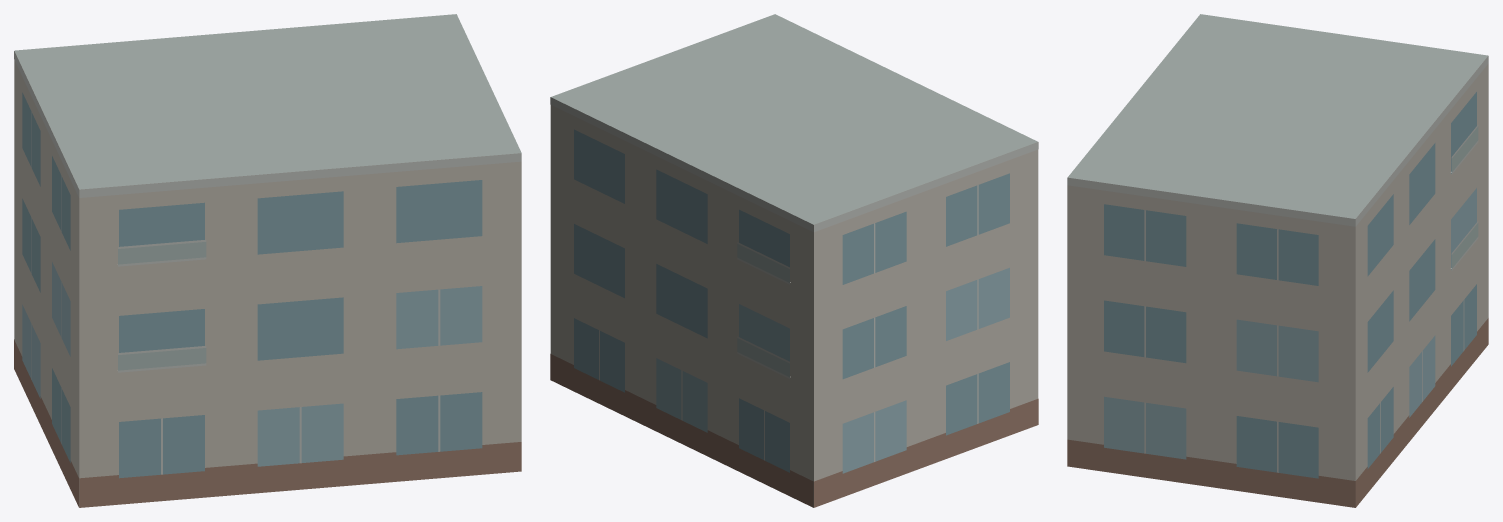
File: survey-upis-32935304.glb
3 renders of one model, left to right at view 1: azimuth 30°, elevation 25°; view 2: azimuth 150°, elevation 25°; view 3: azimuth 270°, elevation 25°, orthographic. The views are drawn at different scales.
Visible parts, largest first — view 1: survey-upis-32935304.tmp; view 2: survey-upis-32935304.tmp; view 3: survey-upis-32935304.tmp.
Part boxes in pixels (x1,y1,x2,y2): survey-upis-32935304.tmp: [14, 14, 521, 507]; survey-upis-32935304.tmp: [550, 14, 1038, 507]; survey-upis-32935304.tmp: [1067, 14, 1488, 507].
Size of the model in its own units: 13.94 by 9.15 by 12.1.
